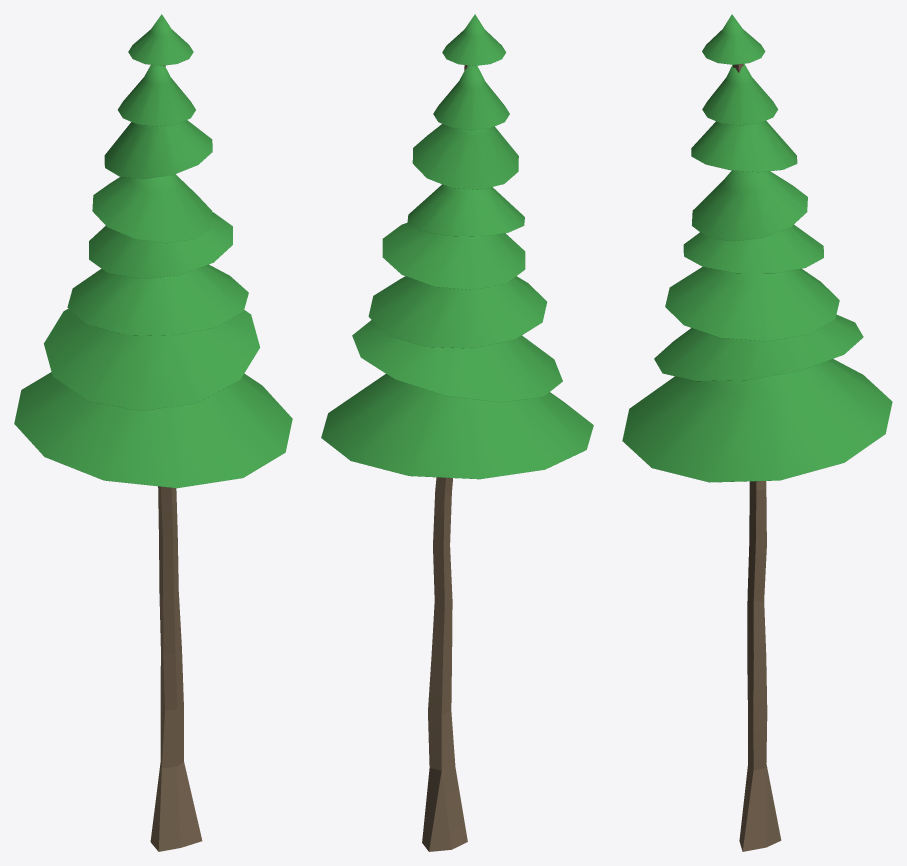
The model's file is pine_f.FBX.
3 renders of one model, left to right at view 1: azimuth 30°, elevation 25°; view 2: azimuth 150°, elevation 25°; view 3: azimuth 270°, elevation 25°, orthographic. The views are drawn at different scales.
Parts seen in each view (by area): view 1: pine_f; view 2: pine_f; view 3: pine_f.
Part boxes in pixels (box(x1,y1,x2,y2)): pine_f: box(14, 14, 292, 851); pine_f: box(321, 14, 593, 851); pine_f: box(622, 14, 892, 851).
Size of the model in its own units: 2.71 by 9.04 by 2.71.
